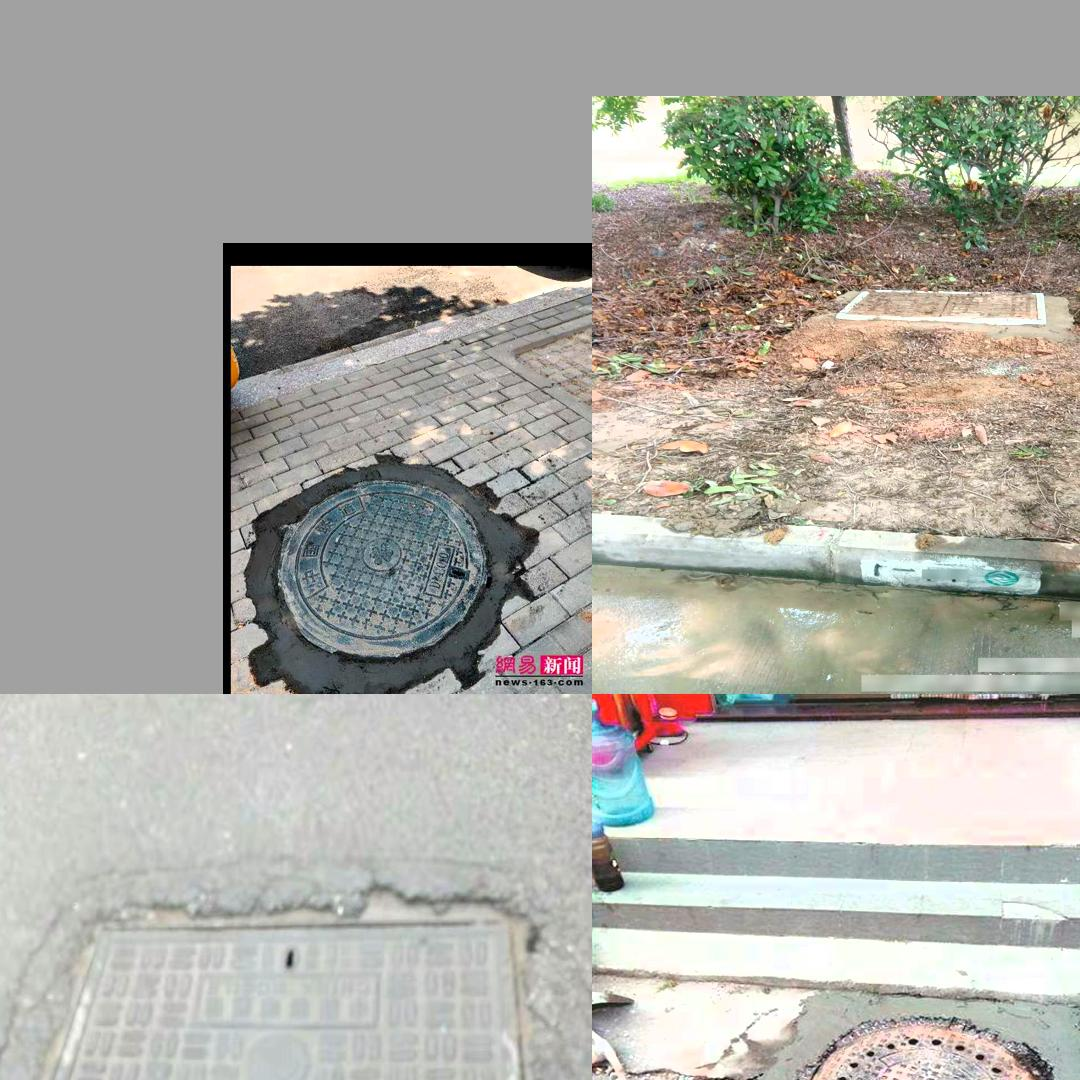good: (10, 910, 537, 1080), (234, 448, 544, 687), (771, 991, 1080, 1080), (833, 289, 1045, 325)
